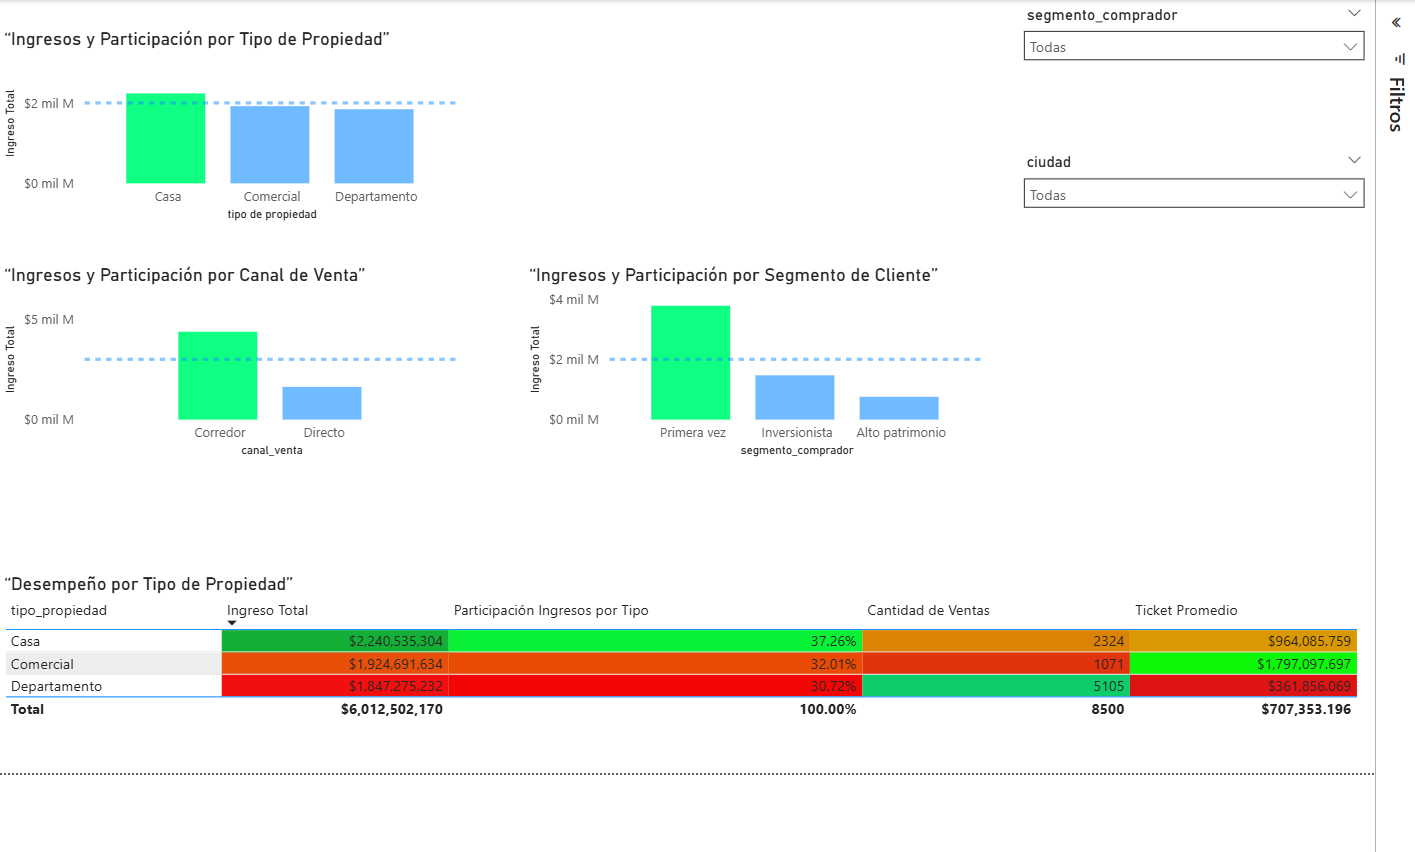

This screenshot's page, from the dashboard's own definition file:
{"tool":"powerbi","page":{"name":"Analisis Comercial","canvas":[1280,720],"ordinal":1},"visuals":[{"type":"clusteredColumnChart","title":"“Ingresos y Participación por Tipo de Propiedad”","fields":{"Category":["dim_propiedades.tipo_propiedad"],"Y":["hecho_ventas_propiedades.Ingreso Total"]},"box":[0,25.7,433.7,185],"z":0},{"type":"slicer","fields":{"Values":["dim_clientes.segmento_comprador"]},"box":[943.3,0,336.9,95.6],"z":1000},{"type":"slicer","fields":{"Values":["hecho_ventas_propiedades.ciudad"]},"box":[943.3,137.2,336.9,107.8],"z":2000},{"type":"tableEx","title":"“Desempeño por Tipo de Propiedad”","fields":{"Values":["dim_propiedades.tipo_propiedad","hecho_ventas_propiedades.Ingreso Total","hecho_ventas_propiedades.Participación Ingresos por Tipo","hecho_ventas_propiedades.Cantidad de Ventas","hecho_ventas_propiedades.Ticket Promedio"]},"box":[0,532.9,1280.2,187.4],"z":3000},{"type":"clusteredColumnChart","title":" “Ingresos y Participación por Canal de Venta”","fields":{"Category":["hecho_ventas_propiedades.canal_venta"],"Y":["hecho_ventas_propiedades.Ingreso Total"]},"box":[0,245,433.7,185],"z":4000},{"type":"clusteredColumnChart","title":"“Ingresos y Participación por Segmento de Cliente”","fields":{"Y":["hecho_ventas_propiedades.Ingreso Total"],"Category":["dim_clientes.segmento_comprador"]},"box":[488.8,245,433.7,185],"z":5000}]}

Visuals, with their boxes on the page's 1280x720 design canvas (x1, y1, x2, y2). These are canvas units, not pixel positions in the 1415x852 screenshot, which may show the page scaled, cropped or inside an application window:
"“Ingresos y Participación por Tipo de Propiedad”" clusteredColumnChart: 0,26,434,211
slicer - dim_clientes.segmento_comprador: 943,0,1280,96
slicer - hecho_ventas_propiedades.ciudad: 943,137,1280,245
"“Desempeño por Tipo de Propiedad”" tableEx: 0,533,1280,720
" “Ingresos y Participación por Canal de Venta”" clusteredColumnChart: 0,245,434,430
"“Ingresos y Participación por Segmento de Cliente”" clusteredColumnChart: 489,245,922,430
